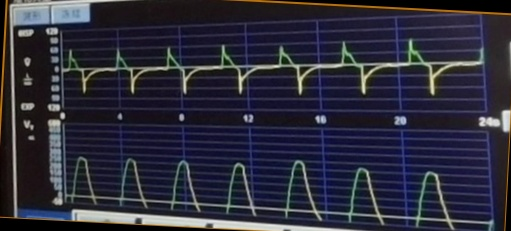Accumulation Flow: (61, 34, 481, 102)
Volume: (66, 153, 478, 229)
